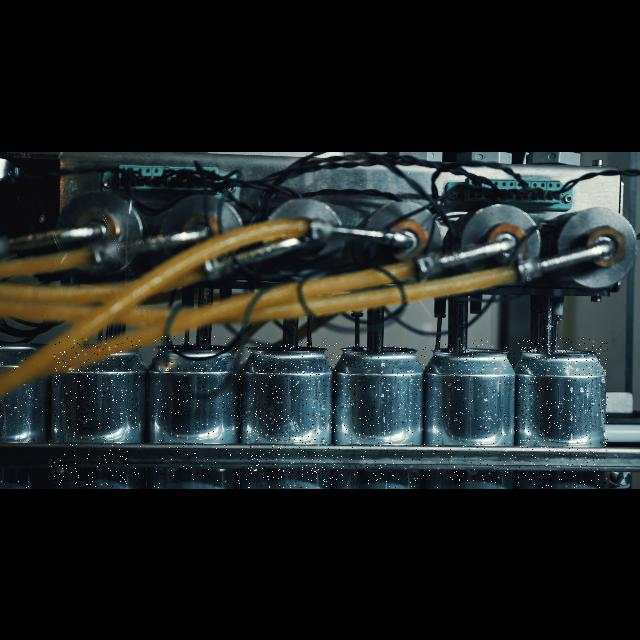empty: (154, 336, 244, 488), (518, 338, 608, 488), (246, 342, 338, 488), (53, 336, 141, 488), (429, 340, 517, 488), (338, 346, 426, 488), (0, 338, 54, 488)
